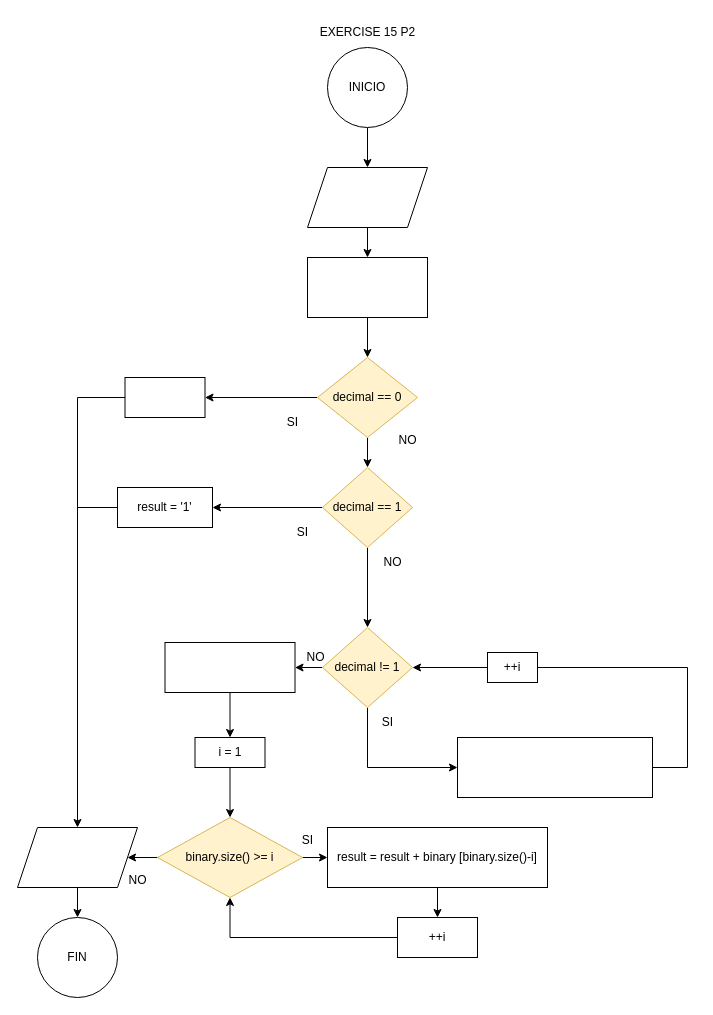
This 713x1015 diagram has some shape labels left out. Each missing label, with the box of its shape:
binary = binary + '1': (164, 642, 295, 692)
binary = binary + (decimal %2) decimal = decimal /2: (456, 736, 652, 798)
binary result i = 0: (306, 256, 428, 318)
INPUT decimal: (306, 166, 428, 228)
OUTPUT result: (16, 826, 138, 888)
result = '0': (124, 376, 205, 418)
